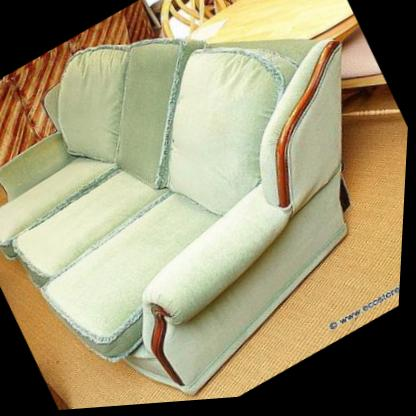Carpet: (0, 87, 410, 411)
Sofa: (0, 0, 416, 416)
